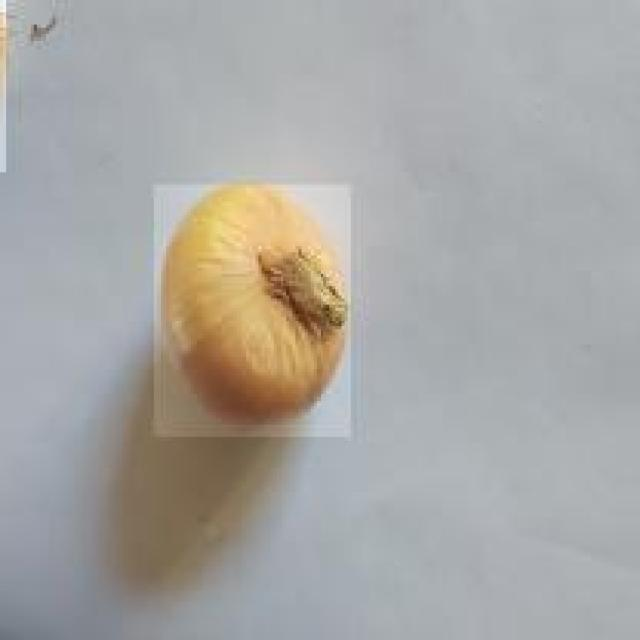onion: (155, 181, 355, 437)
